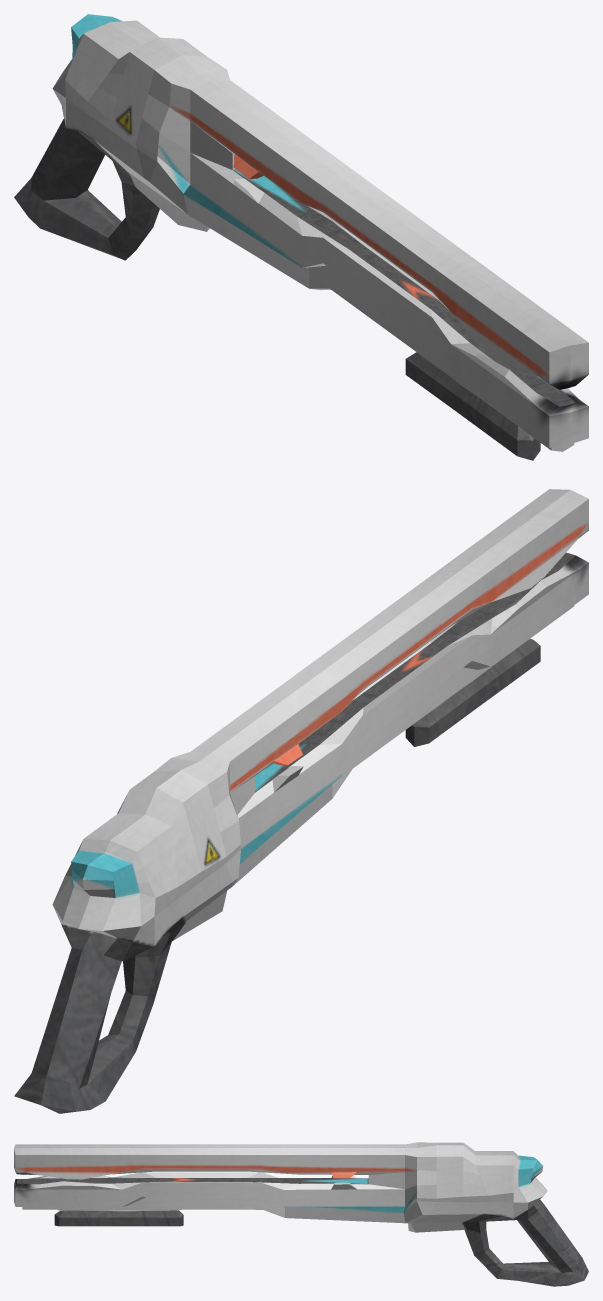
Rendered from Shottie.fbx.
3 views of the same model, one above another, from view 1: azimuth 30°, elevation 25°; view 2: azimuth 150°, elevation 25°; view 3: azimuth 270°, elevation 25° (orthographic). The views are drawn at different scales.
Parts seen in each view (by area): view 1: pCube1; view 2: pCube1; view 3: pCube1.
Part boxes in pixels (x1=…): pCube1: x1=14, y1=14, x2=588, y2=460; pCube1: x1=14, y1=489, x2=588, y2=1113; pCube1: x1=14, y1=1142, x2=588, y2=1286.
Bounding box in the file's own units: 0.209 × 0.564 × 2.12.
1 material, 1 textured.
